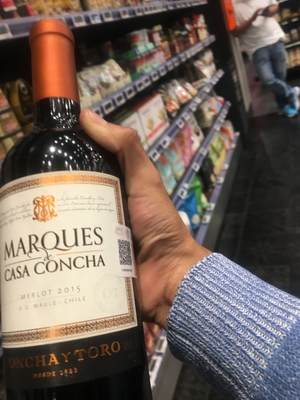marques de casa concha merlot: (1, 32, 158, 393)
